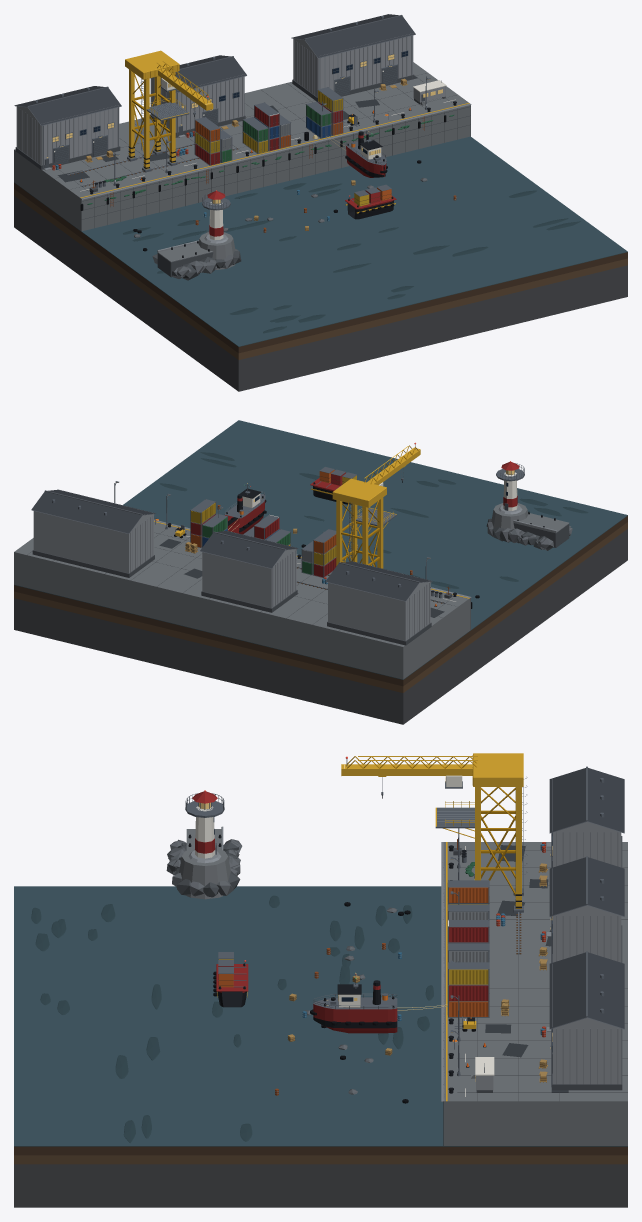
The model's file is Loc_Port.fbx.
3 renders of one model, top to bottom at view 1: azimuth 30°, elevation 25°; view 2: azimuth 150°, elevation 25°; view 3: azimuth 270°, elevation 25°, orthographic. The views are drawn at different scales.
Visible parts, largest first — view 1: Seabed, Concrete, BlockRock, WallA, Roof, Earth, Soil, CraneYellow, Grey, WallB, ContSteel, SeabedDark (+16 smaller); view 2: Seabed, Concrete, BlockRock, WallA, Roof, Earth, Soil, CraneYellow, ConcreteDark, ContSteel, Grey, WallB (+11 smaller); view 3: Seabed, Concrete, BlockRock, Roof, WallA, Earth, Soil, CraneYellow, SeabedDark, Grey, ContSteel, WallB (+16 smaller).
Boxes of the visible parts, <box> form: Seabed: <box>14,136,627,346</box>; Concrete: <box>14,62,470,269</box>; BlockRock: <box>14,196,627,391</box>; WallA: <box>16,35,445,165</box>; Roof: <box>14,14,415,125</box>; Earth: <box>14,189,627,359</box>; Soil: <box>14,183,627,353</box>; CraneYellow: <box>80,50,469,213</box>; Grey: <box>35,15,441,210</box>; WallB: <box>17,33,413,164</box>; ContSteel: <box>194,87,391,196</box>; SeabedDark: <box>123,183,580,333</box>; Seabed: <box>14,420,627,679</box>; Concrete: <box>14,503,568,679</box>; BlockRock: <box>14,529,627,724</box>; WallA: <box>33,511,430,640</box>; Roof: <box>31,489,431,600</box>; Earth: <box>14,522,627,692</box>; Soil: <box>14,516,627,686</box>; CraneYellow: <box>154,446,469,598</box>; ConcreteDark: <box>32,523,569,645</box>; ContSteel: <box>190,467,356,577</box>; Grey: <box>52,444,524,603</box>; WallB: <box>67,492,431,639</box>; Seabed: <box>14,886,627,1146</box>; Concrete: <box>176,829,627,1145</box>; BlockRock: <box>14,1164,627,1207</box>; Roof: <box>549,768,624,1028</box>; WallA: <box>476,822,621,1090</box>; Earth: <box>14,1155,627,1164</box>; Soil: <box>14,1146,627,1155</box>; CraneYellow: <box>217,753,523,1101</box>; SeabedDark: <box>31,895,433,1143</box>; Grey: <box>185,759,604,1087</box>; ContSteel: <box>218,880,489,1017</box>; WallB: <box>552,779,618,1084</box>.
Size of the model in its own units: 91.21 by 40.8 by 90.
